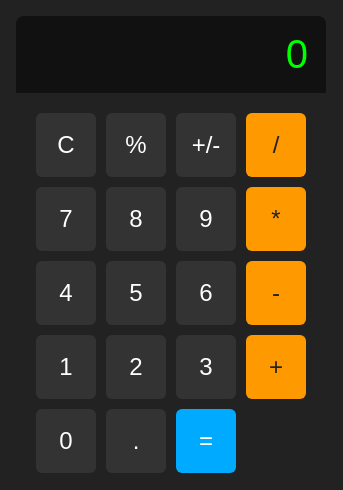
Test: Calculator Component › shows result after pressing equal button
Click the button "1".
click(66, 366)  # box [36,334,96,398]
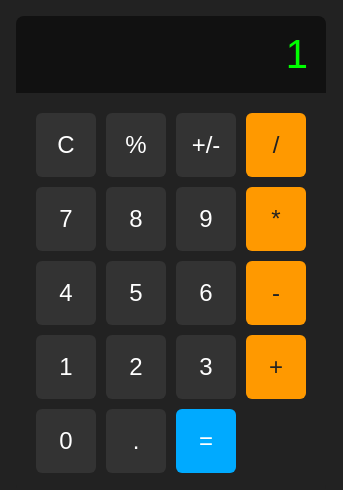
Click the button "+".
click(276, 366)  # box [246,334,306,398]
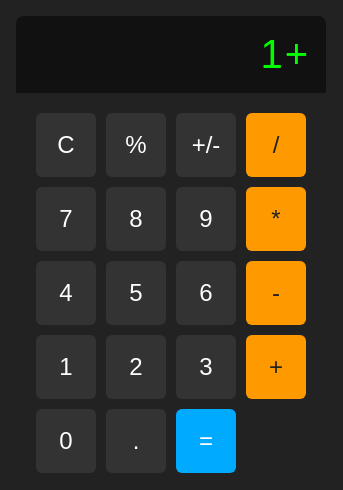
Click the button "2".
click(136, 366)  # box [106,334,166,398]
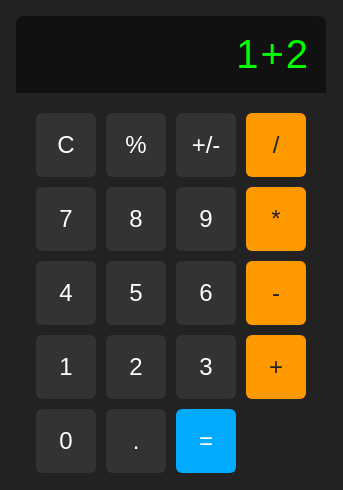
Click the button "=".
click(206, 440)  # box [176,408,236,472]
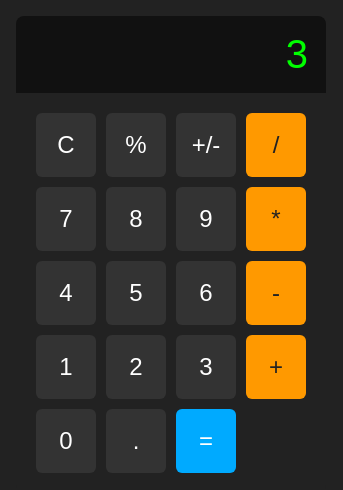
Expected: the text with test id "display" reads "3", [286,32,310,76]
